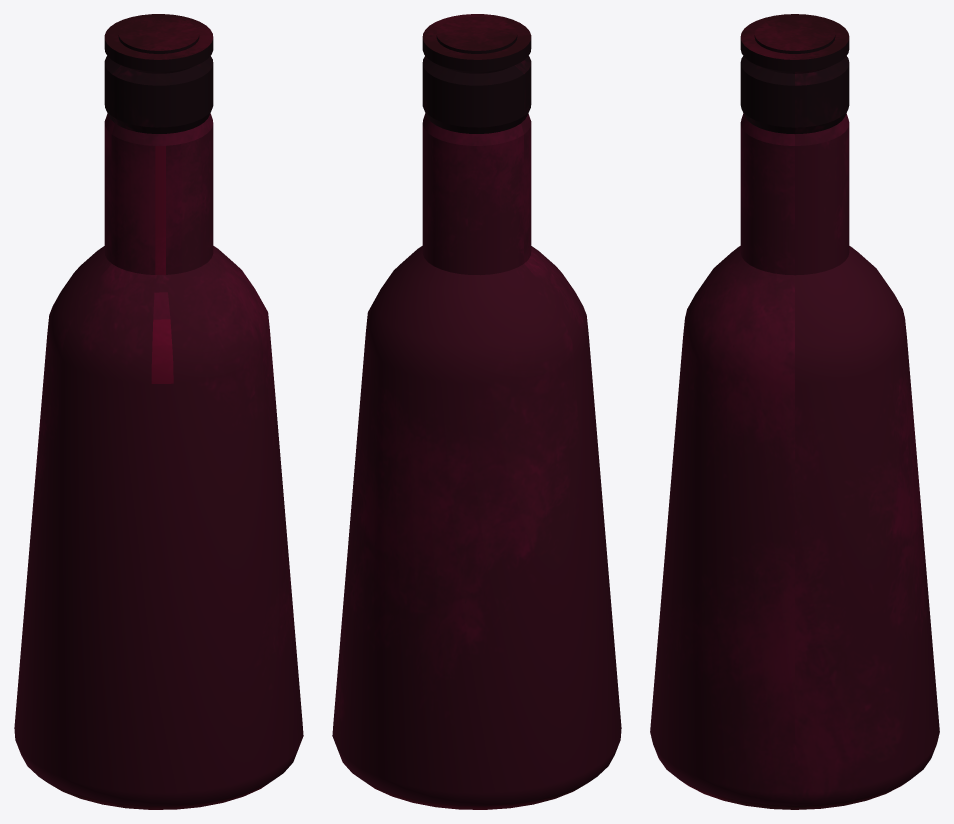
Rendered from 유리병6.fbx.
3 views of the same model, side by side, from view 1: azimuth 30°, elevation 25°; view 2: azimuth 150°, elevation 25°; view 3: azimuth 270°, elevation 25° (orthographic).
Parts seen in each view (by area): view 1: 6번; view 2: 6번; view 3: 6번.
Boxes of the visible parts, bbox=[...] form: 6번: bbox=[14, 14, 303, 809]; 6번: bbox=[332, 14, 621, 809]; 6번: bbox=[650, 14, 939, 809].
Bounding box in the file's own units: 259 × 711 × 259.
1 material, 1 textured.
